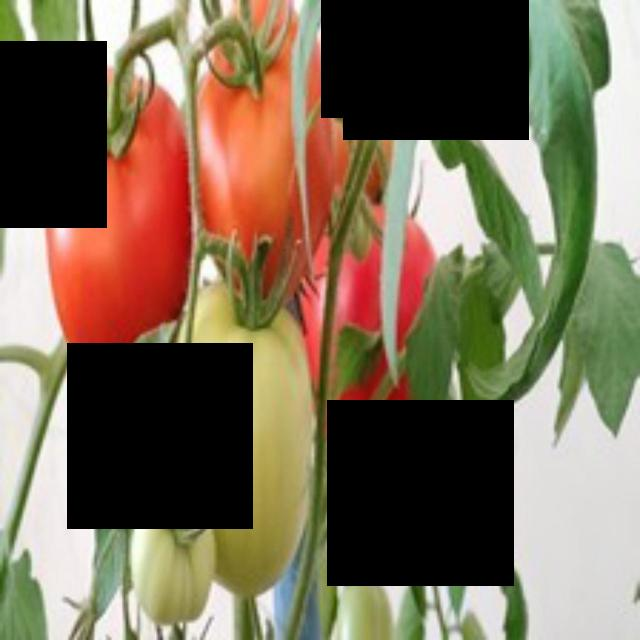tomato: (48, 72, 208, 384)
